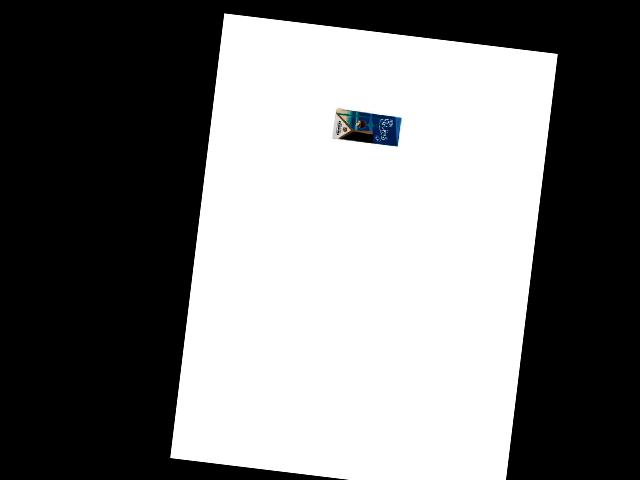chocolate: (330, 107, 402, 148)
